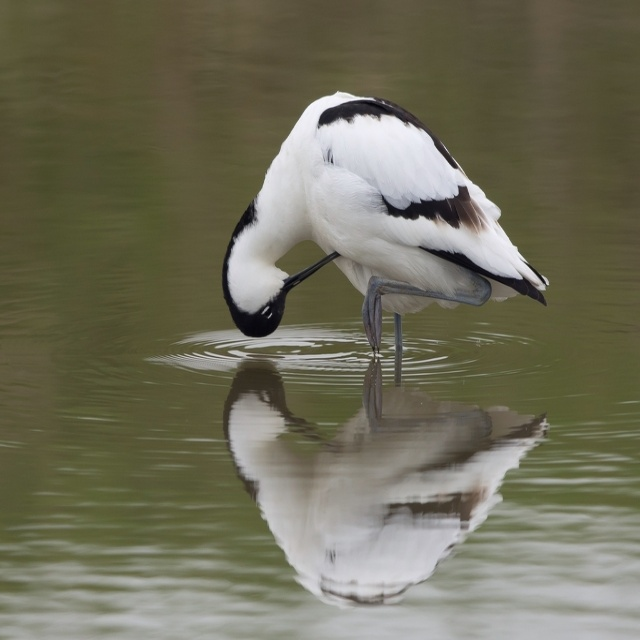Duck: (224, 71, 538, 396)
